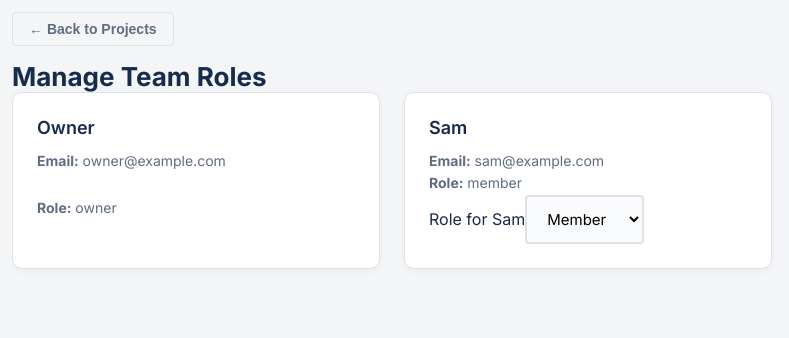
Test: updates roles after the server confirms and hides role controls from members
Select "Manager" in the dropdown. click: (585, 219)
box: [525,195,644,244]
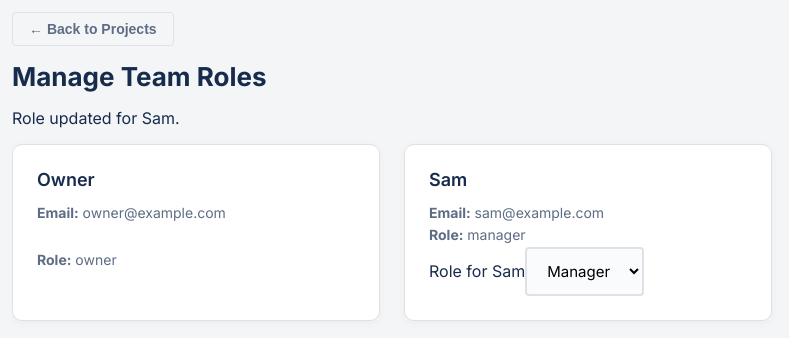
Expected: the message shows "Role updated for Sam", [12,108,180,128]
